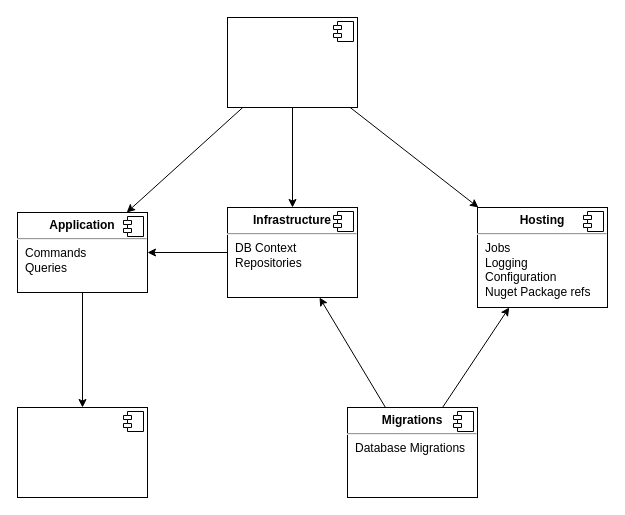
The diagram is 625 pixels wide and 515 high, and some of its shapes have lost their labels. The box of each missing label's shape, as (x1, y1, x2, y2) in pixels:
Api Controllers: (226, 16, 358, 108)
Core Entities Value Objects Domain Events: (16, 406, 148, 498)
